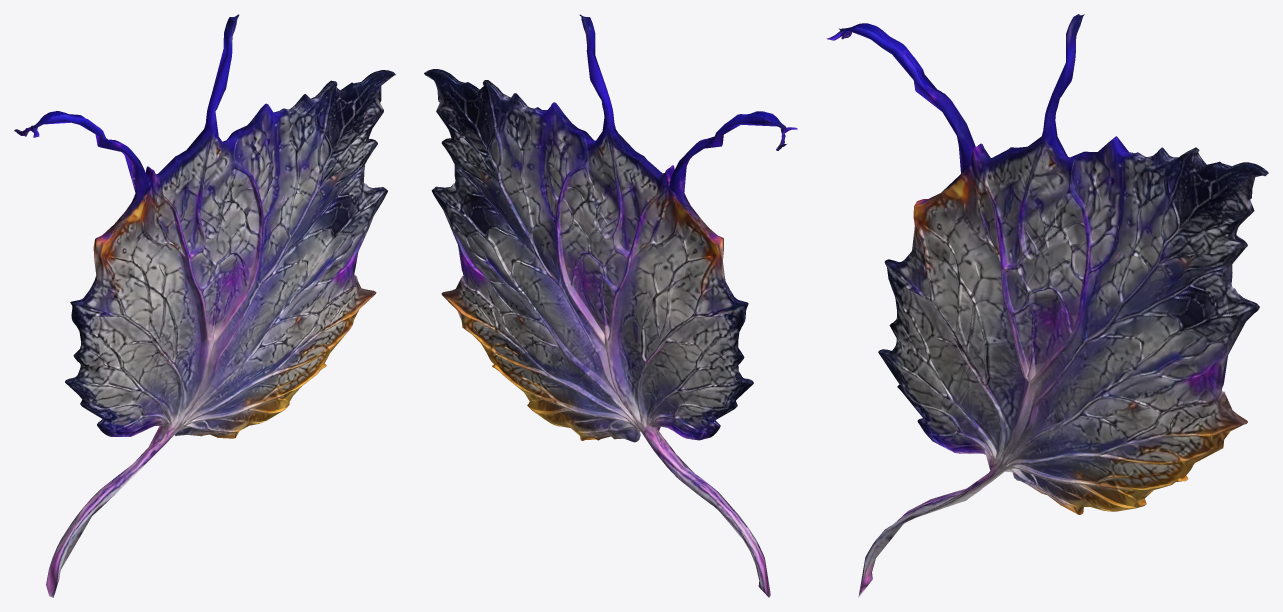
File: leaf.glb
3 renders of one model, left to right at view 1: azimuth 30°, elevation 25°; view 2: azimuth 150°, elevation 25°; view 3: azimuth 330°, elevation 25°, orthographic. The views are drawn at different scales.
Parts seen in each view (by area): view 1: model; view 2: model; view 3: model.
Part boxes in pixels (x1,y1,x2,y2): model: (14, 14, 395, 597); model: (424, 14, 797, 597); model: (826, 14, 1268, 597).
Bounding box in the file's own units: 1.37 × 1.9 × 0.1761.
Materials: 1 (1 with a texture image).
